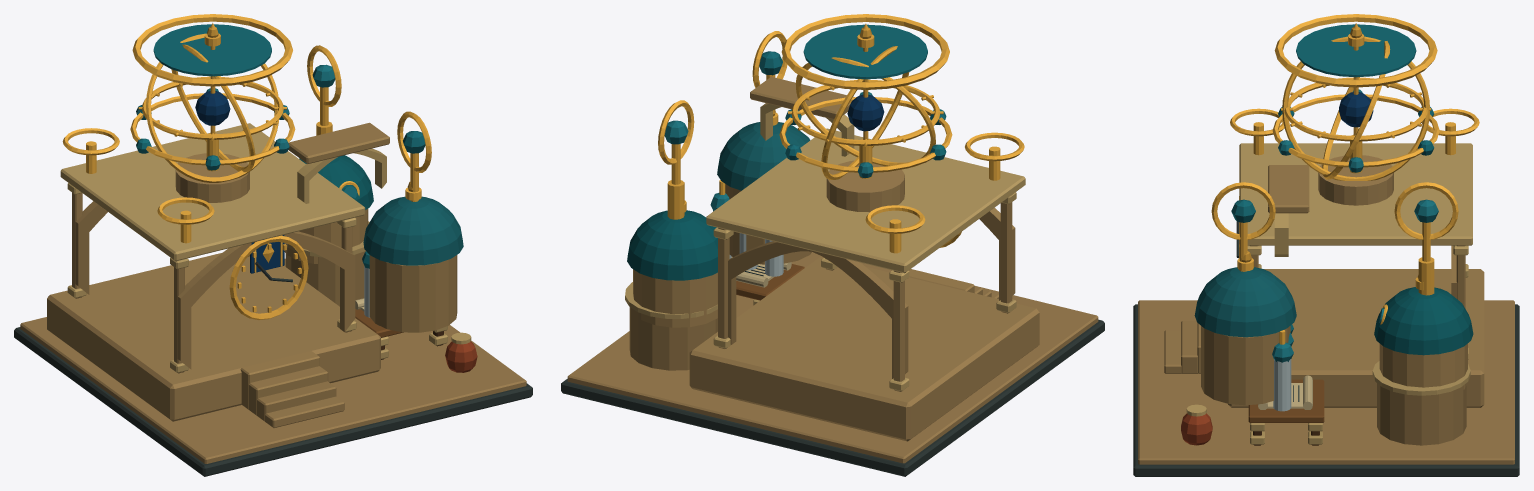
3 renders of one model, left to right at view 1: azimuth 30°, elevation 25°; view 2: azimuth 150°, elevation 25°; view 3: azimuth 270°, elevation 25°, orthographic. The views are drawn at different scales.
Parts seen in each view (by area): view 1: laboratory_level11_structure, laboratory_level11_metal; view 2: laboratory_level11_structure, laboratory_level11_metal; view 3: laboratory_level11_structure, laboratory_level11_metal.
Boxes of the visible parts, box(x1,y1,x2,y2) form: laboratory_level11_structure: box(14, 24, 532, 476); laboratory_level11_metal: box(62, 14, 431, 319); laboratory_level11_structure: box(561, 24, 1104, 476); laboratory_level11_metal: box(658, 14, 1024, 253); laboratory_level11_structure: box(1133, 24, 1519, 476); laboratory_level11_metal: box(1211, 14, 1479, 344).
Size of the model in its own units: 5.6 by 5.61 by 5.6.
